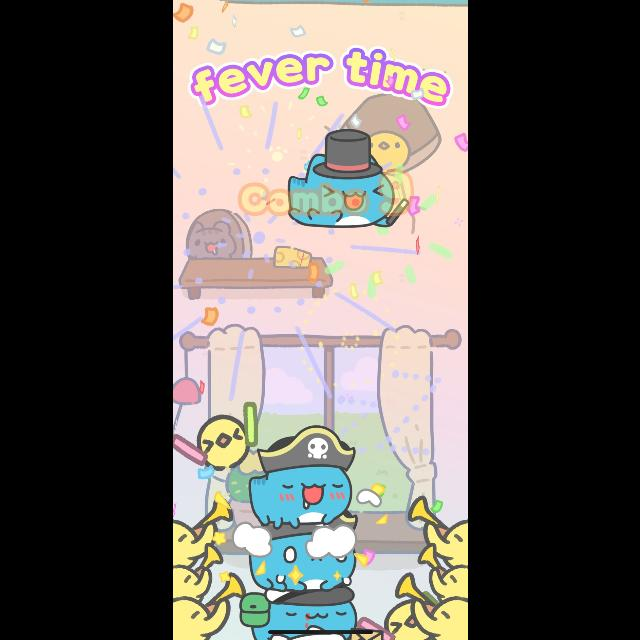capoo: (286, 128, 409, 232), (251, 426, 365, 528), (246, 512, 364, 594), (243, 582, 359, 640)
